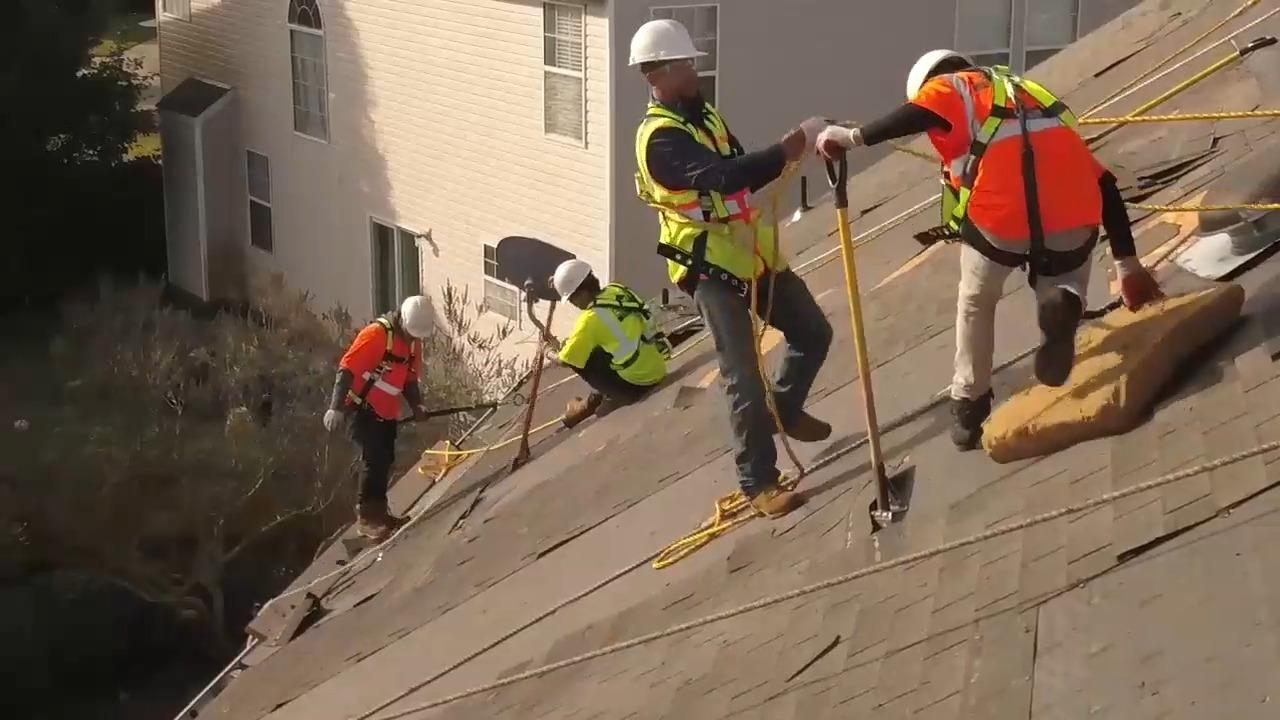Gloves: (801, 112, 881, 166), (1120, 260, 1172, 309), (322, 406, 347, 432), (539, 339, 558, 363), (412, 403, 429, 427)
Helmet: (905, 48, 974, 102), (624, 22, 704, 65), (399, 294, 435, 339), (553, 252, 585, 297)
Person: (603, 11, 835, 520), (877, 31, 1176, 416), (318, 285, 441, 530), (537, 257, 663, 424)
Safety Boot: (1034, 286, 1082, 386), (948, 387, 993, 446), (743, 479, 800, 517), (781, 407, 831, 442), (357, 499, 402, 535)
Safety Vest: (968, 97, 1083, 237), (660, 117, 762, 274), (589, 291, 656, 375), (359, 325, 414, 415)
